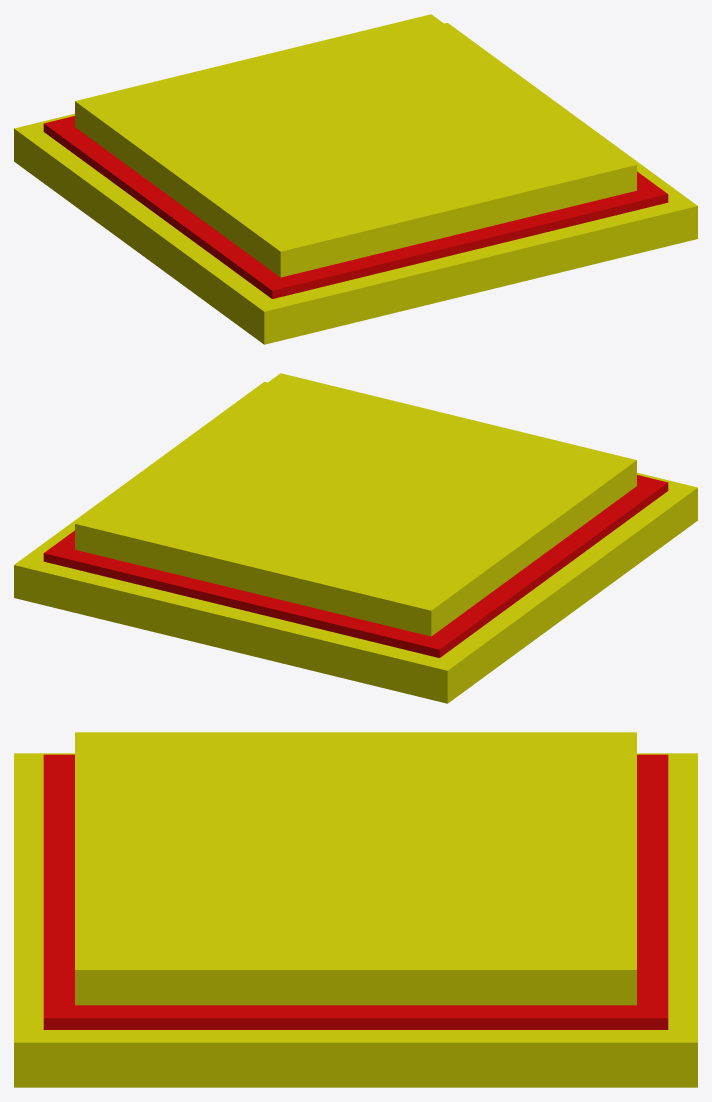
The model's file is PlacementPlatform.fbx.
3 renders of one model, top to bottom at view 1: azimuth 30°, elevation 25°; view 2: azimuth 150°, elevation 25°; view 3: azimuth 270°, elevation 25°, orthographic. The views are drawn at different scales.
Parts seen in each view (by area): view 1: PlacementPlatform; view 2: PlacementPlatform; view 3: PlacementPlatform.
Boxes of the visible parts, x1,y1,x2,y2 form: PlacementPlatform: [14, 14, 697, 344]; PlacementPlatform: [14, 373, 697, 703]; PlacementPlatform: [14, 732, 697, 1087].
Bounding box in the file's own units: 2.19 × 0.3254 × 2.19.
